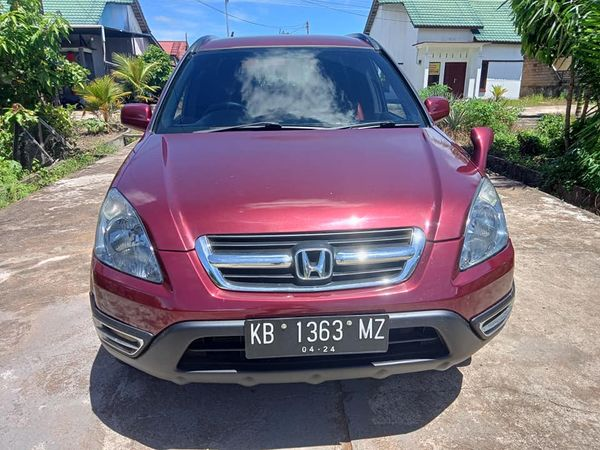plate: (241, 319, 392, 355)
